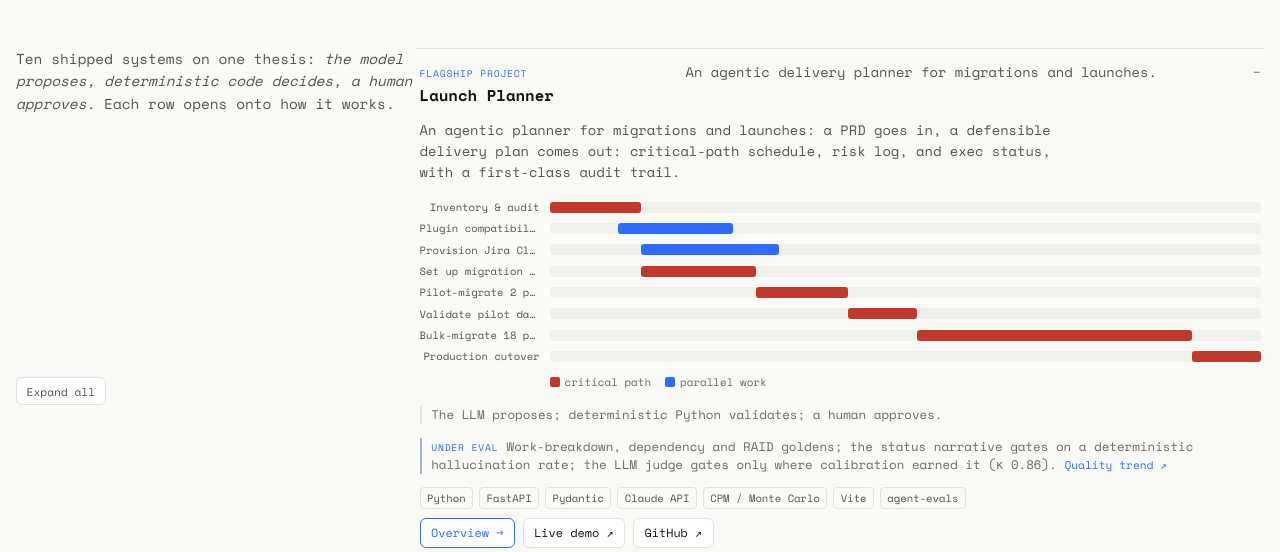
it: ProjectIndex › expands and collapses every row from one button
Click the button "Expand all".
click(61, 391)  # box [16, 377, 106, 405]
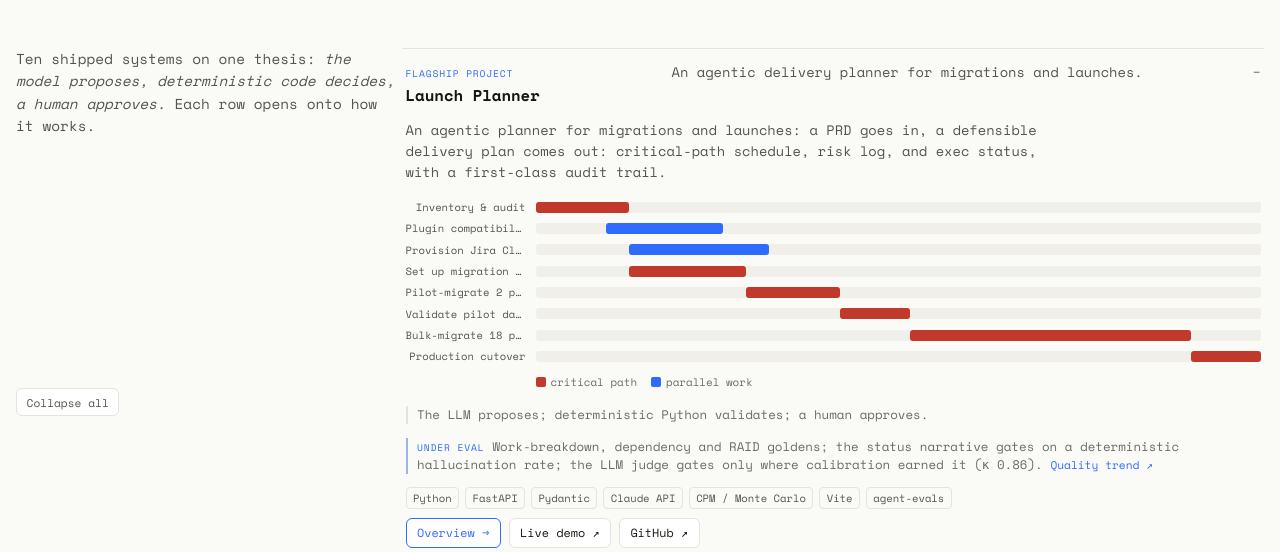
Click the button "Collapse all".
click(68, 402)  # box [16, 388, 119, 416]
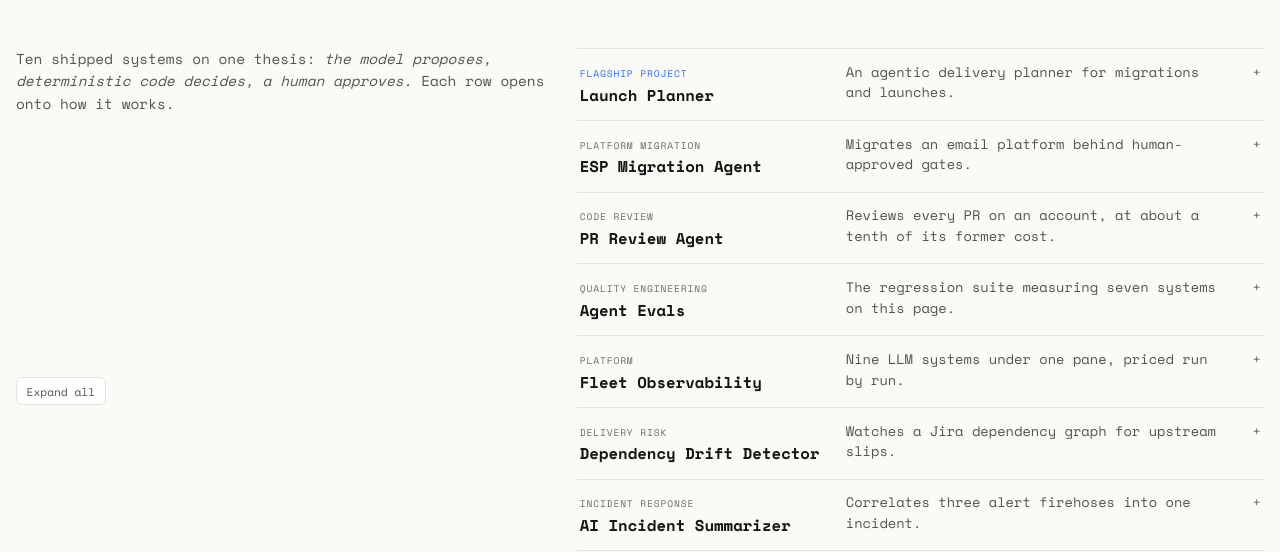
Check: the button "Expand all" is shown, box [16, 377, 106, 405]
